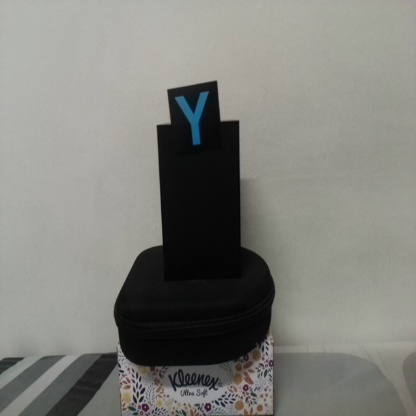id_14: (167, 88, 222, 152)
